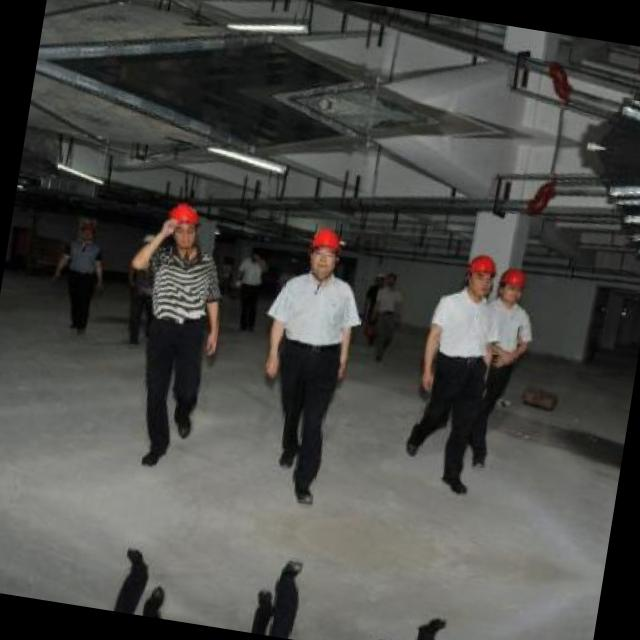helmet: (301, 222, 346, 278), (160, 197, 202, 250), (460, 248, 502, 298), (496, 263, 532, 307), (76, 218, 98, 242)
